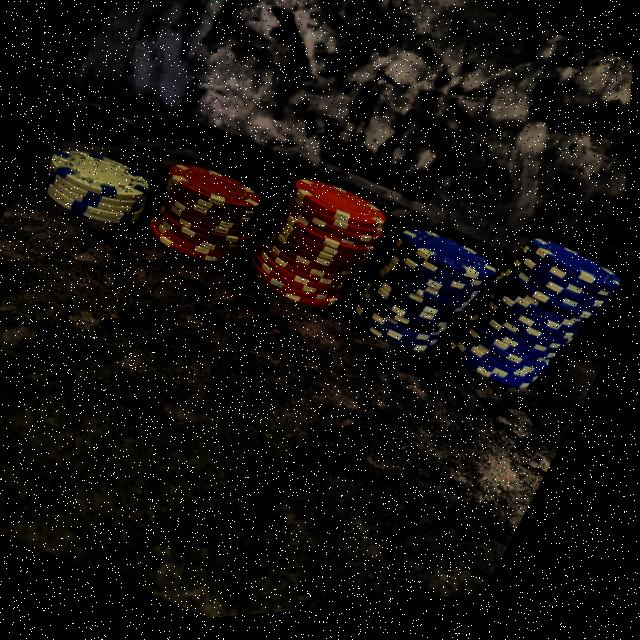Chip: (440, 219, 628, 437), (236, 151, 416, 343), (346, 208, 519, 392), (122, 136, 293, 298), (32, 117, 180, 252)
